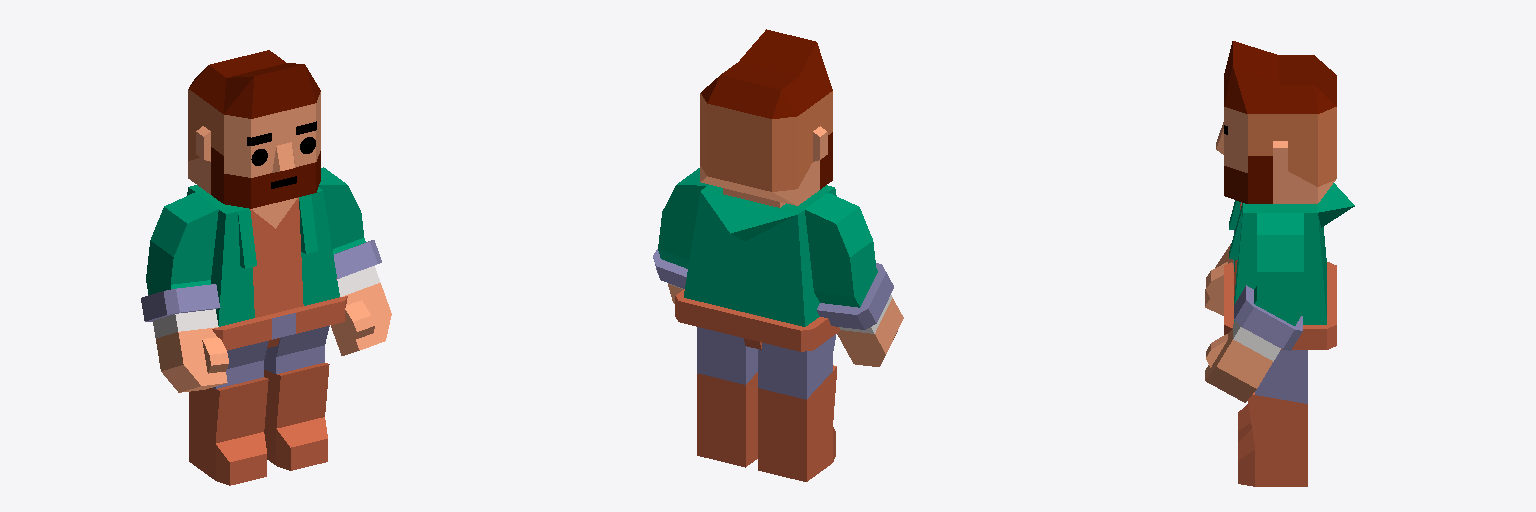
3 views of the same model, side by side, from view 1: azimuth 30°, elevation 25°; view 2: azimuth 150°, elevation 25°; view 3: azimuth 270°, elevation 25° (orthographic).
Visible parts, largest first — view 1: mergedBlocks; view 2: mergedBlocks; view 3: mergedBlocks.
Part boxes in pixels (x1,y1,x2,y2): mergedBlocks: (141, 50, 391, 485); mergedBlocks: (653, 29, 903, 481); mergedBlocks: (1205, 41, 1354, 486).
Size of the model in its own units: 0.5421 by 0.9564 by 0.3216.